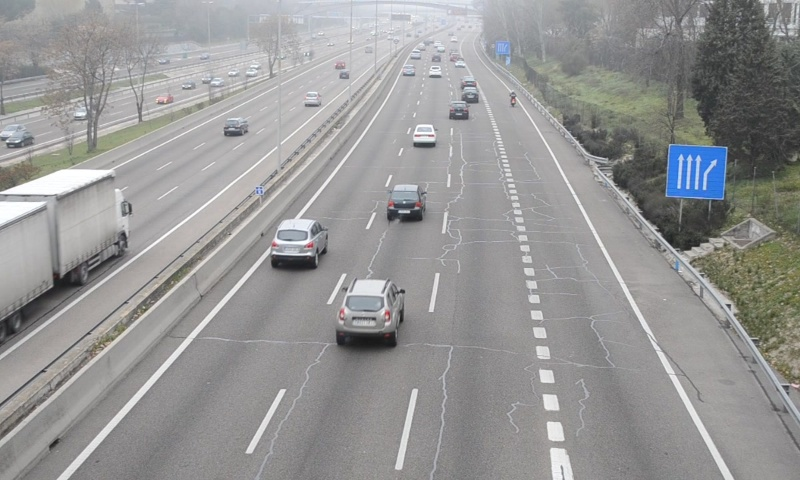car: (338, 280, 405, 334), (270, 218, 328, 259), (387, 184, 426, 218), (414, 123, 436, 145), (448, 100, 468, 119), (462, 86, 479, 102)
motorcycle: (509, 90, 518, 108)
